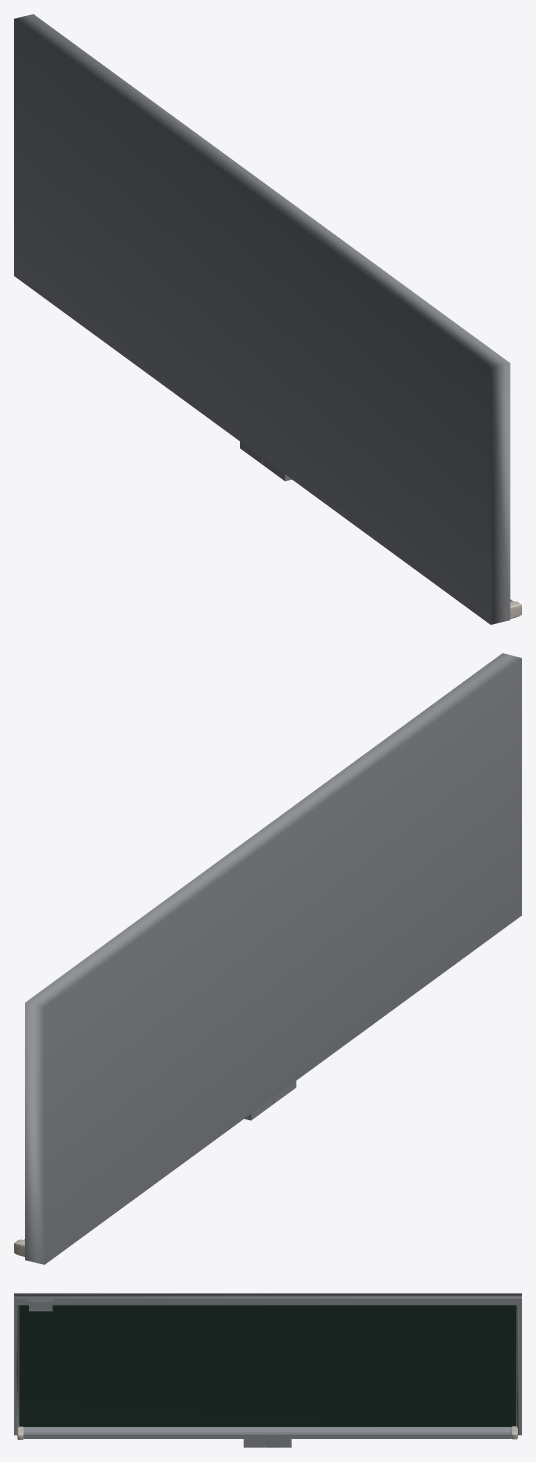
File: blackBoard.obj
3 views of the same model, one above another, from view 1: azimuth 30°, elevation 25°; view 2: azimuth 150°, elevation 25°; view 3: azimuth 270°, elevation 25° (orthographic). The views are drawn at different scales.
Visible parts, largest first — view 1: BlackBoard_BlackBoard_pasted__pasted__blinn1SG1; view 2: BlackBoard_BlackBoard_pasted__pasted__blinn1SG1; view 3: BlackBoard_BlackBoard_pasted__pasted__lambert2SG, BlackBoard_BlackBoard_pasted__pasted__blinn1SG1.
Boxes of the visible parts, <box> form: BlackBoard_BlackBoard_pasted__pasted__blinn1SG1: <box>14,14,513,624</box>; BlackBoard_BlackBoard_pasted__pasted__blinn1SG1: <box>24,653,521,1264</box>; BlackBoard_BlackBoard_pasted__pasted__lambert2SG: <box>19,1305,515,1426</box>; BlackBoard_BlackBoard_pasted__pasted__blinn1SG1: <box>14,1293,521,1447</box>.
Size of the model in its own units: 0.519 by 3.87 by 12.21.
